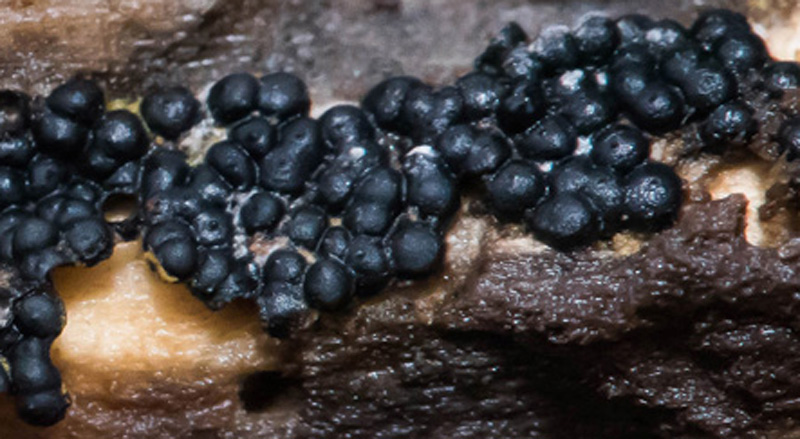pudricion radicular: (11, 40, 754, 372)
